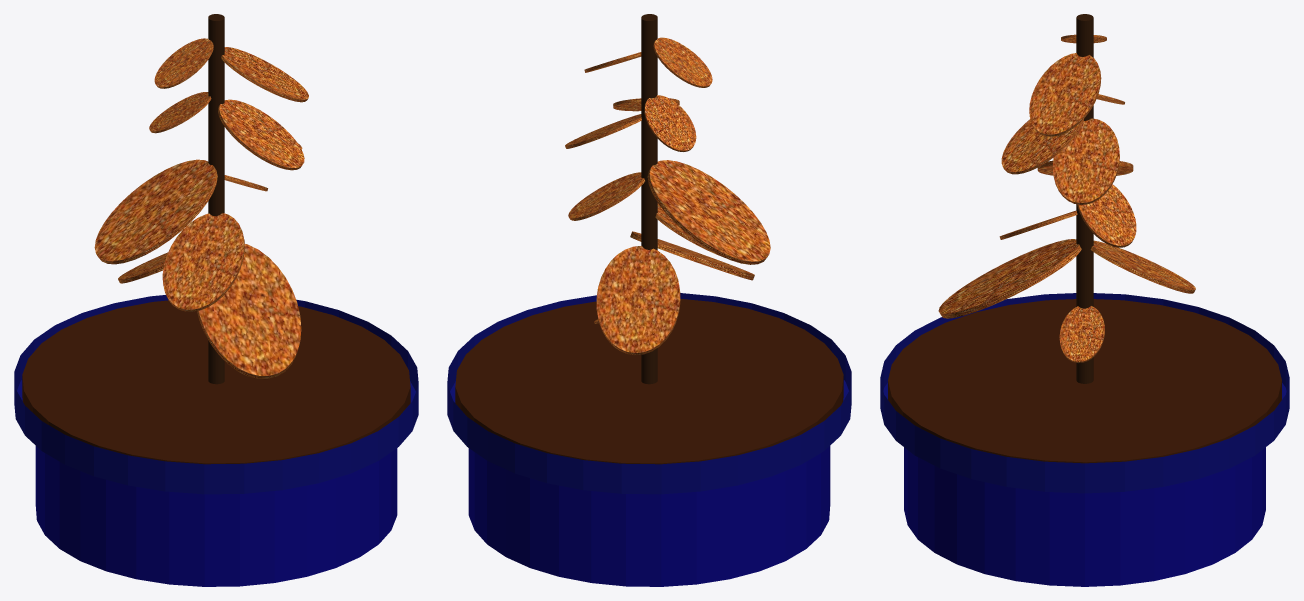
The model's file is Plant1.fbx.
3 views of the same model, side by side, from view 1: azimuth 30°, elevation 25°; view 2: azimuth 150°, elevation 25°; view 3: azimuth 270°, elevation 25° (orthographic).
Parts seen in each view (by area): view 1: Cylinder.002, Cylinder, Cylinder.001, Cylinder.008, Cylinder.004, Cylinder.007, Cylinder.003, Cylinder.011, Cylinder.009, Cylinder.006, Cylinder.014, Cylinder.005; view 2: Cylinder.002, Cylinder, Cylinder.001, Cylinder.005, Cylinder.004, Cylinder.003, Cylinder.014, Cylinder.006, Cylinder.013, Cylinder.008, Cylinder.010; view 3: Cylinder.002, Cylinder, Cylinder.001, Cylinder.009, Cylinder.008, Cylinder.010, Cylinder.003, Cylinder.013, Cylinder.011, Cylinder.012, Cylinder.005.
Part boxes in pixels (x1=…): Cylinder.002: x1=22, y1=300, x2=410, y2=464; Cylinder: x1=35, y1=446, x2=397, y2=586; Cylinder.001: x1=14, y1=295, x2=418, y2=494; Cylinder.008: x1=197, y1=244, x2=301, y2=379; Cylinder.004: x1=94, y1=159, x2=217, y2=264; Cylinder.007: x1=162, y1=213, x2=244, y2=311; Cylinder.003: x1=208, y1=14, x2=224, y2=384; Cylinder.011: x1=218, y1=99, x2=304, y2=170; Cylinder.009: x1=221, y1=47, x2=308, y2=102; Cylinder.006: x1=154, y1=38, x2=213, y2=88; Cylinder.014: x1=149, y1=92, x2=211, y2=133; Cylinder.005: x1=118, y1=252, x2=167, y2=283; Cylinder.002: x1=455, y1=299, x2=843, y2=464; Cylinder: x1=468, y1=446, x2=830, y2=586; Cylinder.001: x1=447, y1=293, x2=851, y2=494; Cylinder.005: x1=596, y1=246, x2=680, y2=355; Cylinder.004: x1=647, y1=160, x2=770, y2=264; Cylinder.003: x1=641, y1=14, x2=657, y2=384; Cylinder.014: x1=644, y1=95, x2=696, y2=151; Cylinder.006: x1=653, y1=37, x2=712, y2=87; Cylinder.013: x1=568, y1=172, x2=644, y2=220; Cylinder.008: x1=630, y1=231, x2=754, y2=280; Cylinder.010: x1=565, y1=114, x2=641, y2=148; Cylinder.002: x1=888, y1=299, x2=1281, y2=463; Cylinder: x1=904, y1=447, x2=1265, y2=586; Cylinder.001: x1=880, y1=293, x2=1289, y2=493; Cylinder.009: x1=1029, y1=53, x2=1101, y2=136; Cylinder.008: x1=938, y1=239, x2=1081, y2=318; Cylinder.010: x1=1052, y1=118, x2=1119, y2=204; Cylinder.003: x1=1076, y1=14, x2=1093, y2=383; Cylinder.013: x1=1077, y1=184, x2=1136, y2=247; Cylinder.011: x1=1001, y1=119, x2=1083, y2=174; Cylinder.012: x1=1059, y1=306, x2=1104, y2=363; Cylinder.005: x1=1090, y1=240, x2=1195, y2=293.
Size of the model in its own units: 187 by 251 by 189.
15 materials, 11 textured.
